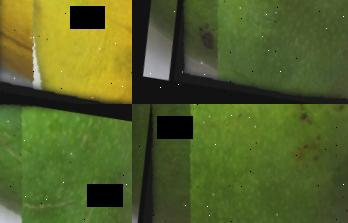Ripe: (0, 0, 132, 104)
Unripe: (132, 104, 348, 223), (162, 0, 348, 104), (0, 104, 132, 223)
